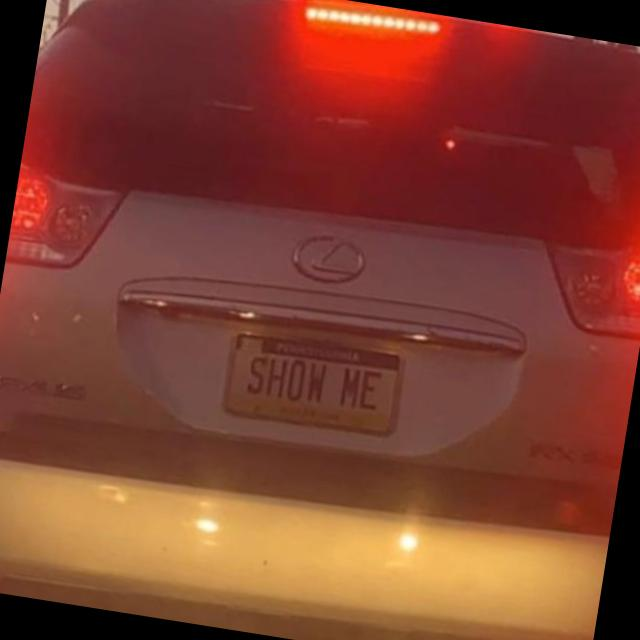LicensePlate: (219, 328, 407, 441)
